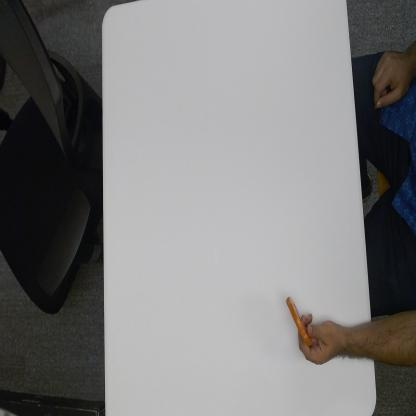Hand: (298, 309, 352, 369)
Pretzel: (283, 290, 314, 344)
